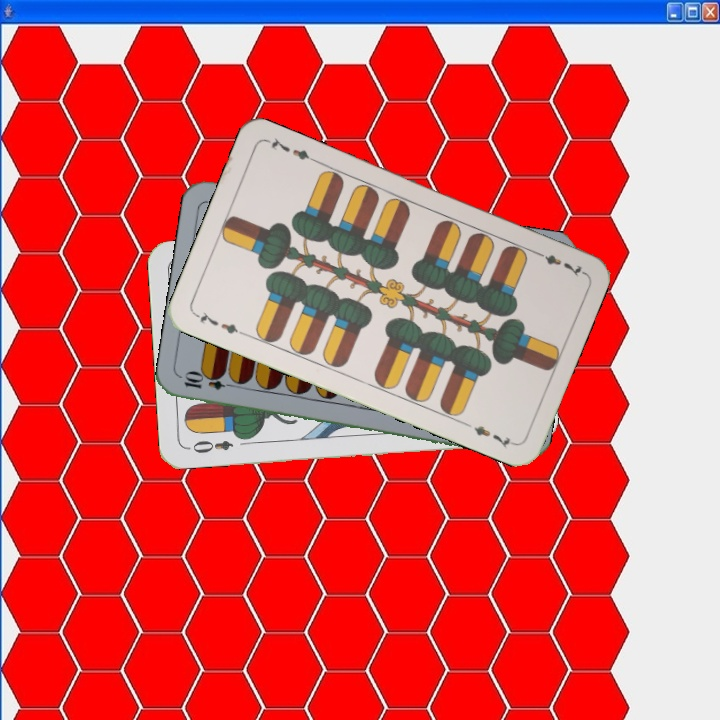E10: (180, 371, 239, 393)
E7: (530, 246, 586, 279), (191, 307, 248, 338)
EO: (184, 436, 236, 456)
